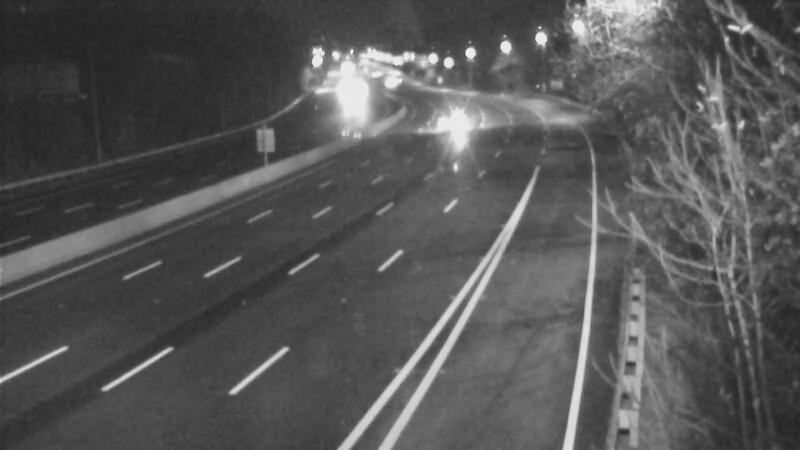vehicle: (364, 56, 414, 106), (431, 95, 481, 145), (329, 72, 379, 122)
